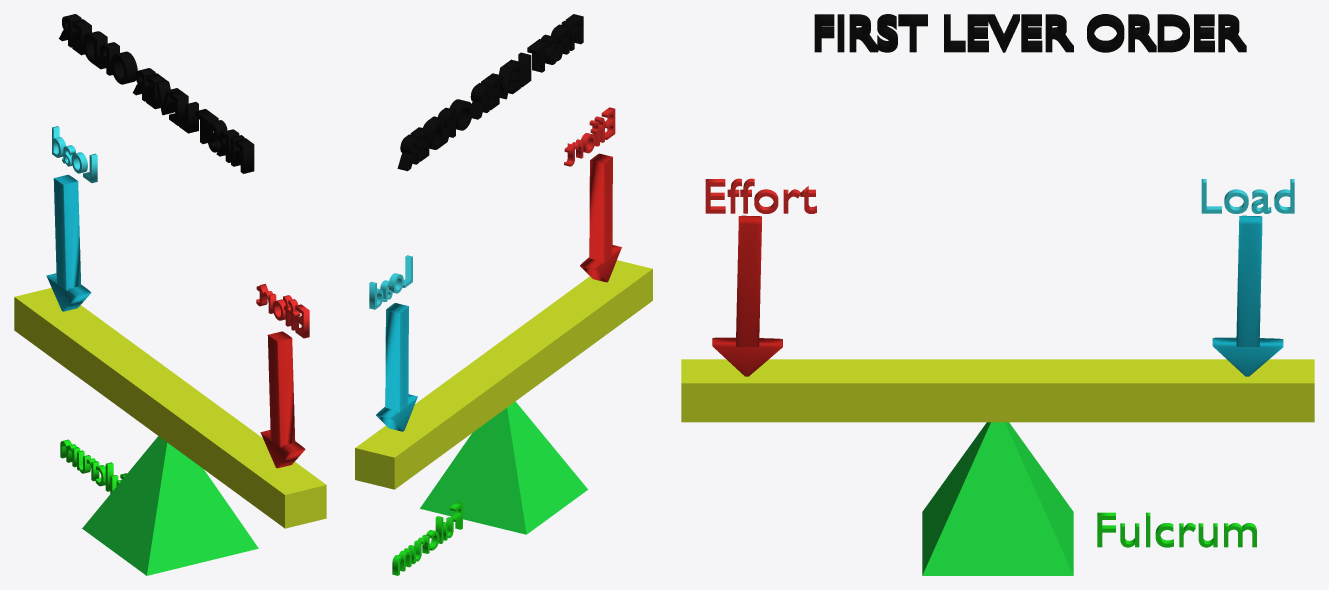
File: First Lever Order.gltf
The picture shows the model from 3 angles, left to right: view 1: azimuth 30°, elevation 25°; view 2: azimuth 150°, elevation 25°; view 3: azimuth 270°, elevation 25°; orthographic projection. The views are drawn at different scales.
Visible parts, largest first — view 1: Cube.001, Cube, Text.003, Cylinder.001, Cylinder.008, Text, Text.002, Text.001; view 2: Cube.001, Cube, Text.003, Cylinder.008, Cylinder.001, Text.002, Text, Text.001; view 3: Cube.001, Cube, Text.003, Cylinder.001, Cylinder.008, Text.002, Text, Text.001.
Part boxes in pixels (x1,y1,x2,y2): Cube.001: (14, 288, 326, 528); Cube: (82, 436, 258, 575); Text.003: (59, 14, 254, 173); Cylinder.001: (46, 174, 91, 311); Cylinder.008: (260, 331, 305, 468); Text: (256, 283, 309, 338); Text.002: (60, 439, 126, 493); Text.001: (52, 126, 97, 182); Cube.001: (355, 260, 652, 489); Cube: (420, 401, 587, 534); Text.003: (397, 14, 583, 171); Cylinder.008: (580, 153, 621, 282); Cylinder.001: (376, 303, 417, 431); Text.002: (392, 501, 462, 575); Text: (564, 107, 615, 166); Text.001: (369, 255, 412, 309); Cube.001: (681, 359, 1314, 422); Cube: (922, 422, 1073, 575); Text.003: (814, 14, 1246, 52); Cylinder.001: (1212, 215, 1283, 376); Cylinder.008: (712, 215, 782, 376); Text.002: (1097, 512, 1256, 547); Text: (705, 178, 816, 213); Text.001: (1201, 179, 1294, 213).
Bounding box in the file's own units: 1.7 × 6.53 × 7.11.
